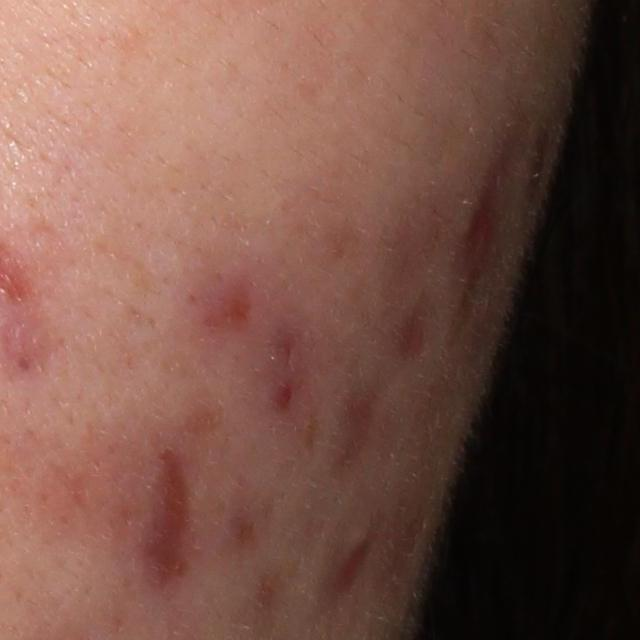atrophic_scar: (453, 125, 527, 328), (152, 458, 191, 591), (334, 518, 383, 605), (341, 395, 377, 476)
